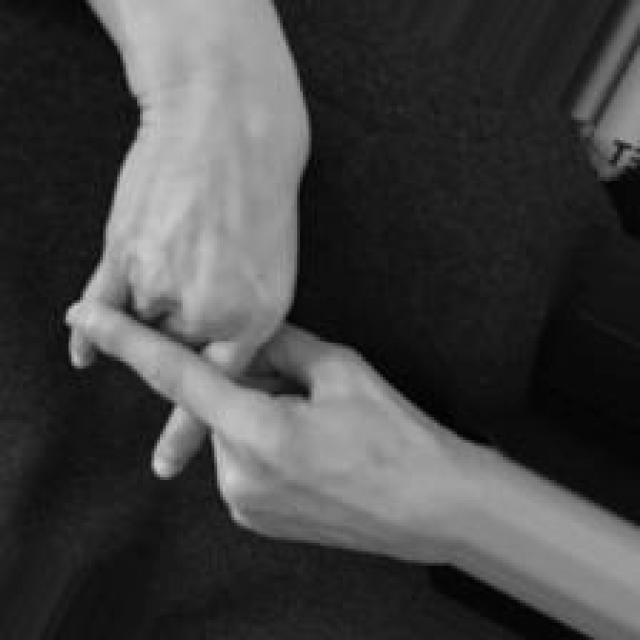H: (62, 140, 487, 570)
